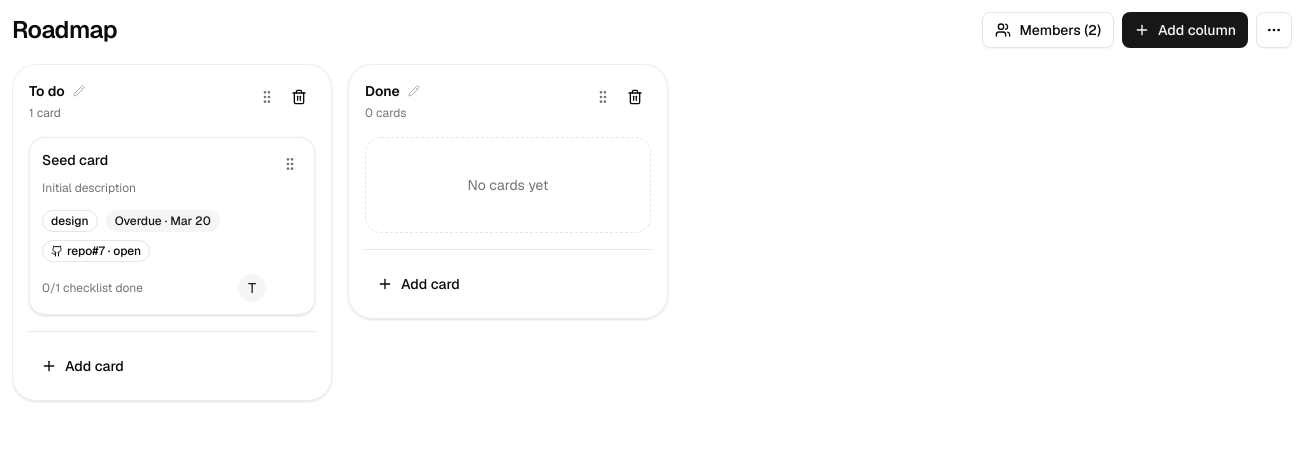
Test case: BoardView › cancels add-card flow without creating a card
The width and height of the screenshot is (1304, 459).
Later steps or results of the test are not shown.
Step 1. Click the 2nd button "Add card" → {"x": 94, "y": 366}, box [29,348,315,384]
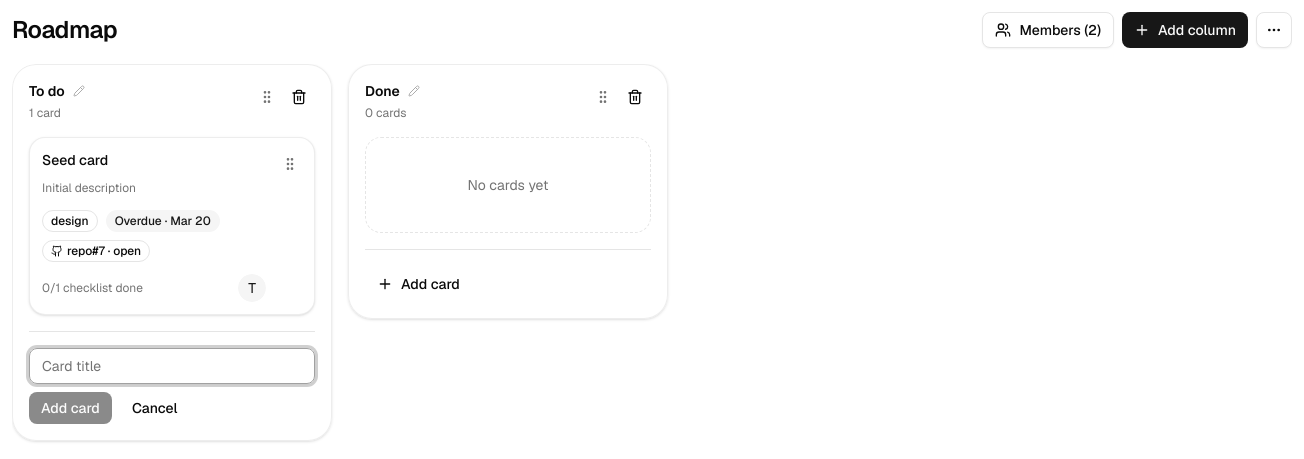
Now the button "Cancel" is shown, box [120,392,190,424]
